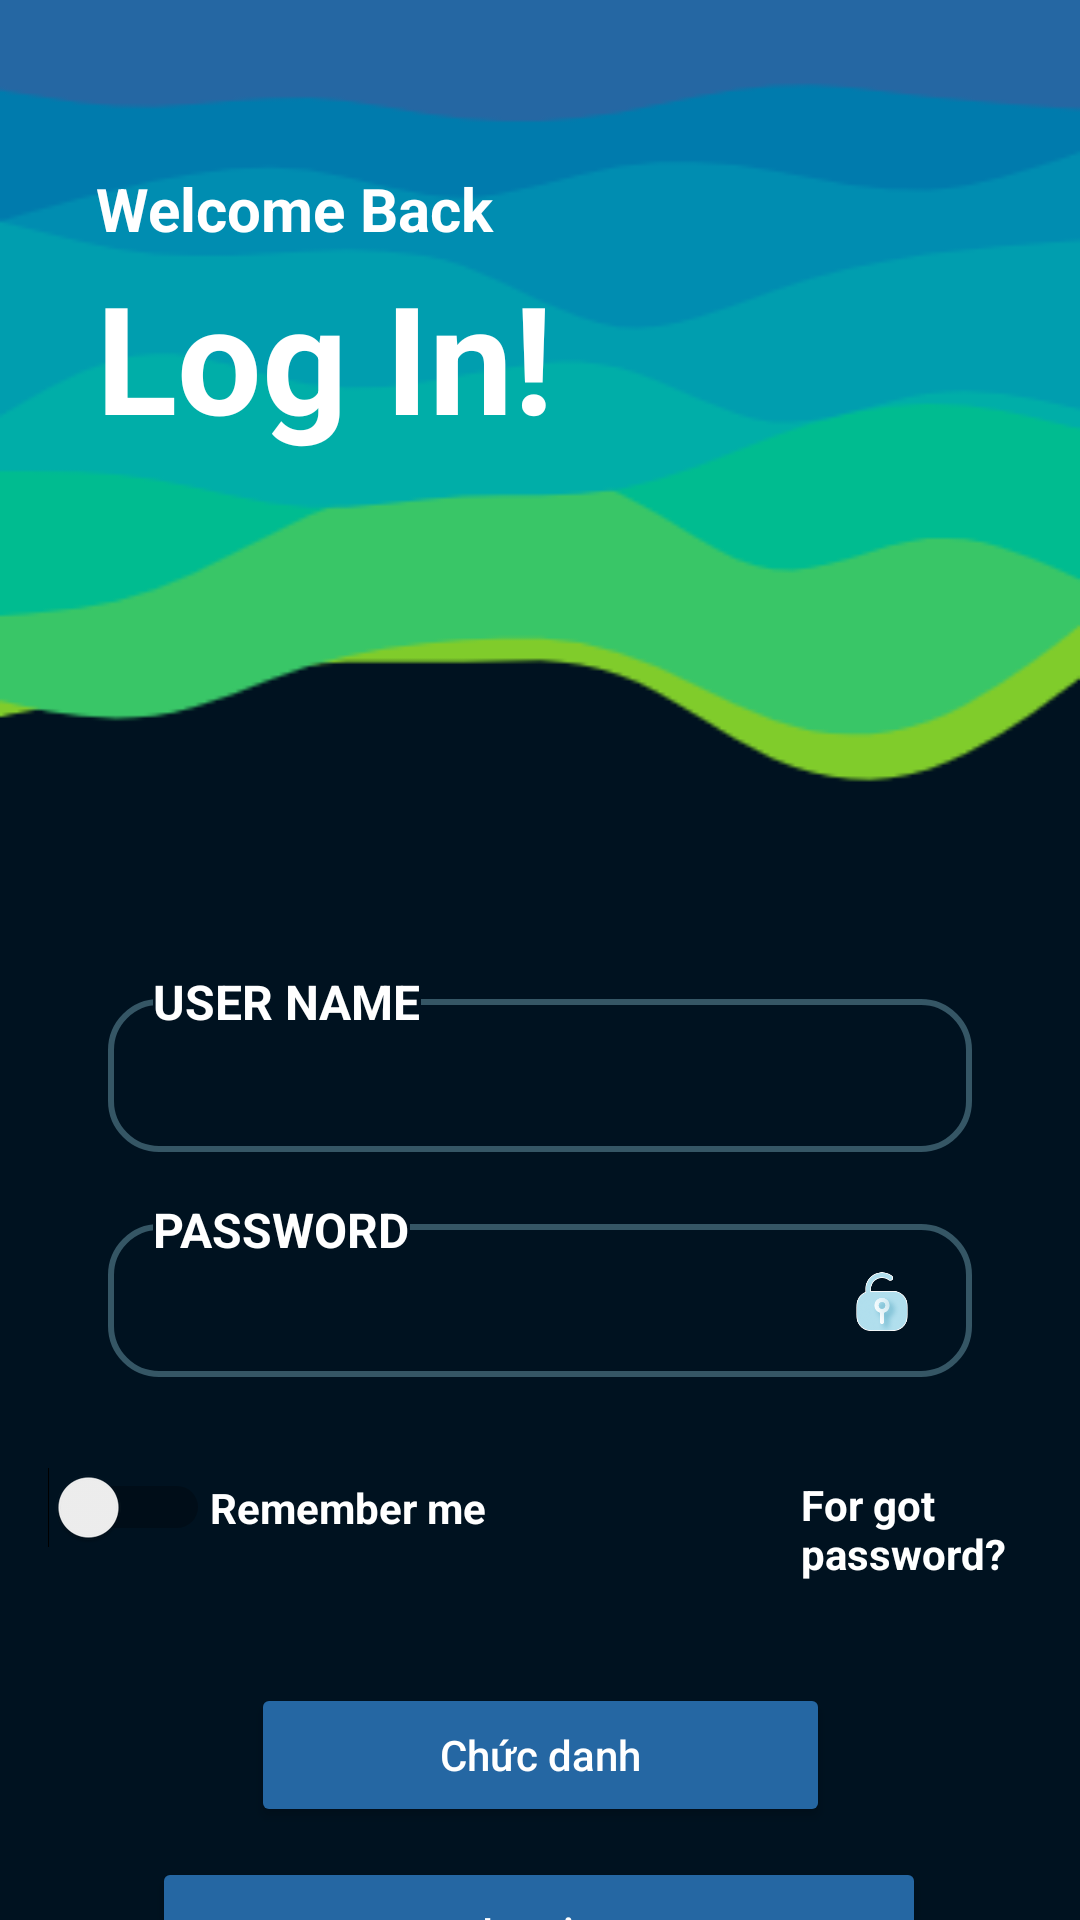

Screen size 1080px x 1920px. Icon name, then its box in pixels as {"x1": x1, "y1": y1, "x2": x2, "y2": y2}:
unlock: {"x1": 856, "y1": 1272, "x2": 908, "y2": 1331}
